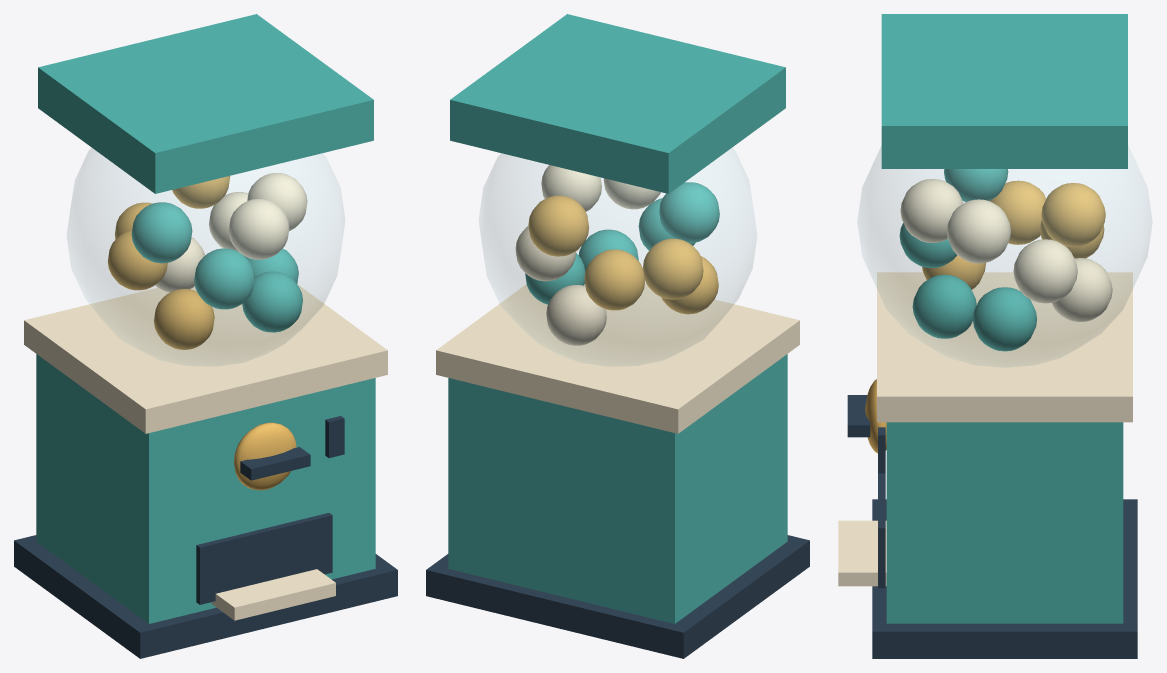
Rendered from figure-gacha-machine.glb.
3 renders of one model, left to right at view 1: azimuth 30°, elevation 25°; view 2: azimuth 150°, elevation 25°; view 3: azimuth 270°, elevation 25°, orthographic. The views are drawn at different scales.
Parts seen in each view (by area): view 1: Figure capsule machine; view 2: Figure capsule machine; view 3: Figure capsule machine.
Part boxes in pixels (bbox=[...]): Figure capsule machine: bbox=[14, 14, 397, 658]; Figure capsule machine: bbox=[426, 14, 809, 658]; Figure capsule machine: bbox=[838, 14, 1151, 658].
Bounding box in the file's own units: 1.65 × 3.04 × 1.66.
